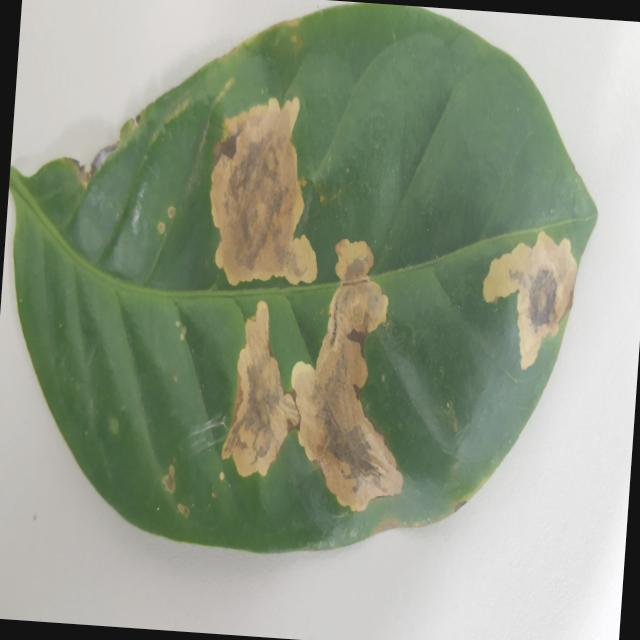KaratDaunKopi: (291, 238, 402, 510), (210, 97, 317, 285), (221, 300, 299, 475), (483, 231, 576, 369), (162, 464, 175, 493), (108, 417, 118, 434), (177, 503, 189, 517), (167, 206, 175, 218), (157, 221, 165, 233)
